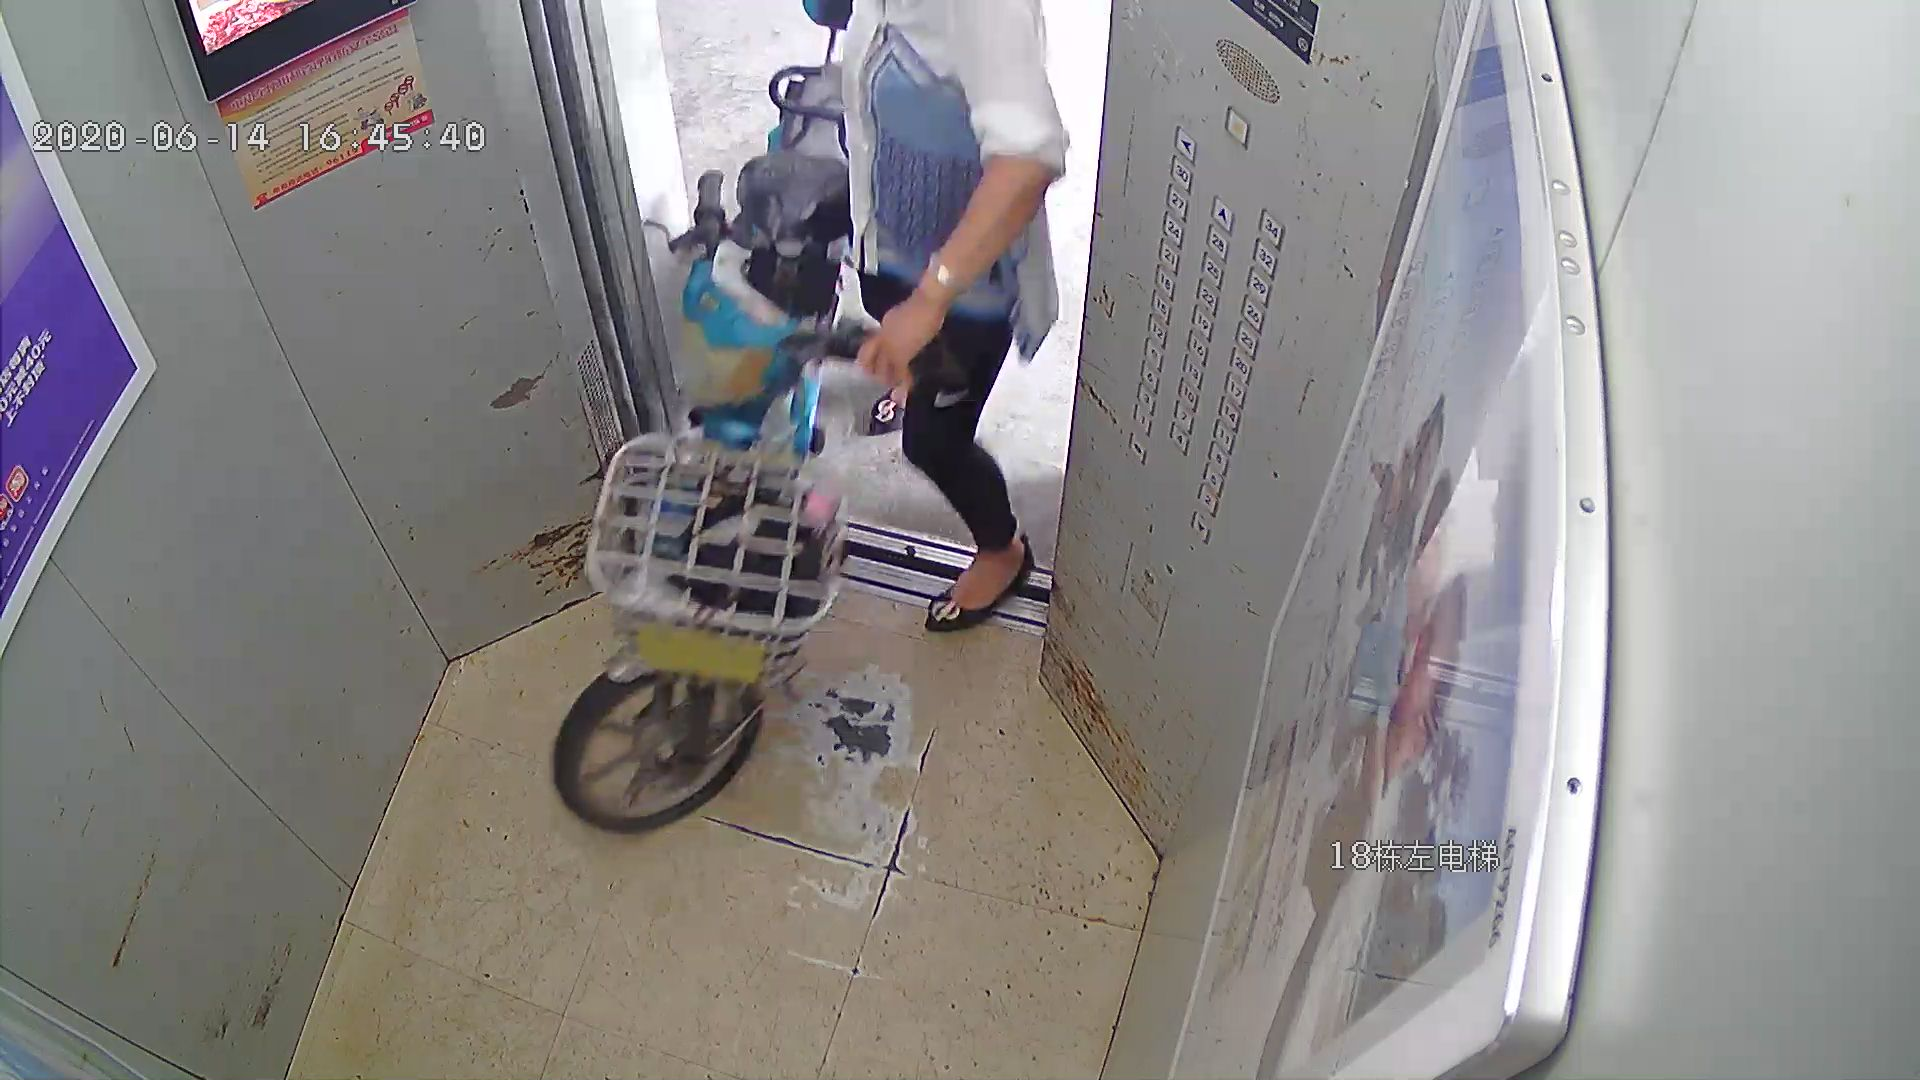Electric-bicycle: (545, 7, 866, 831)
